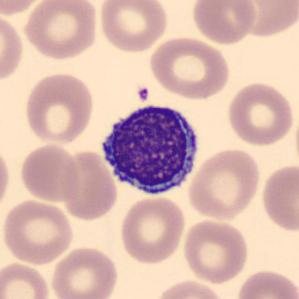Lymphocyte: (98, 102, 201, 197)
Platelets: (136, 85, 150, 104)
RBC: (186, 146, 262, 221), (146, 34, 232, 100), (22, 70, 96, 146), (0, 198, 76, 266), (224, 79, 296, 148), (118, 194, 187, 266), (180, 217, 251, 285), (21, 0, 100, 61), (58, 147, 120, 222), (96, 0, 170, 54), (18, 142, 82, 204), (48, 244, 120, 299), (190, 0, 259, 46), (226, 0, 298, 40), (259, 162, 298, 234), (235, 267, 299, 299), (0, 259, 52, 298), (0, 11, 26, 85), (152, 277, 227, 299), (0, 142, 13, 214), (0, 0, 50, 17)
